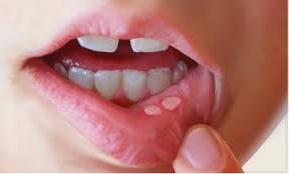Ulcer: (144, 96, 184, 116)
